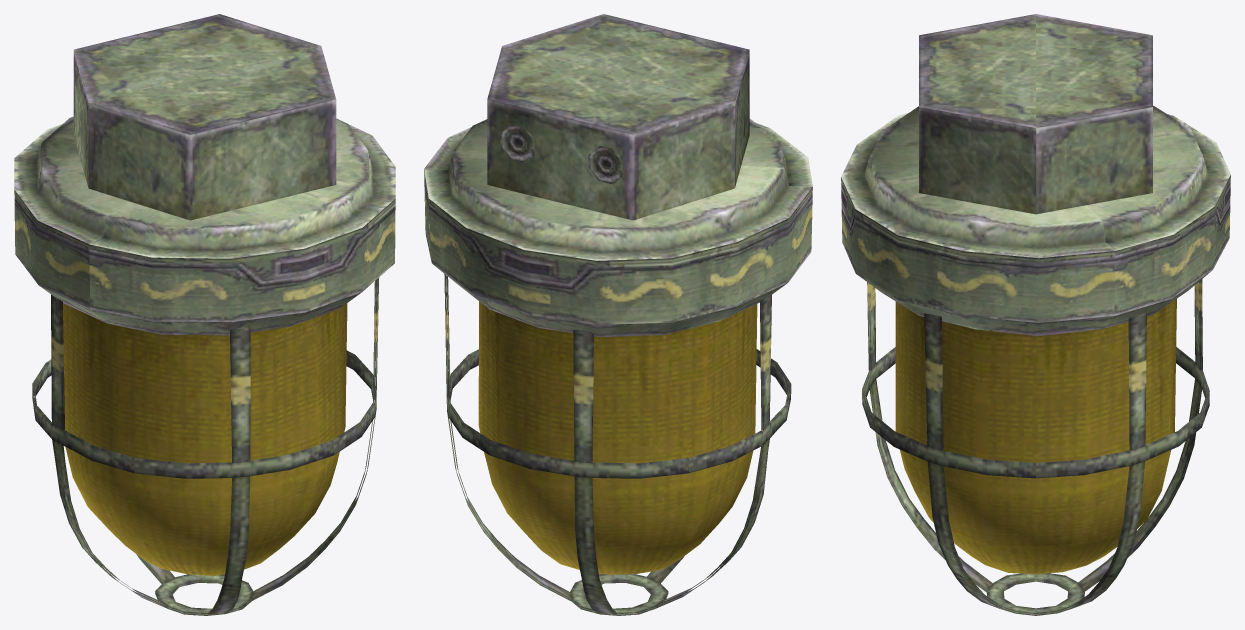
Rendered from warning_light_ceiling_mod.dae.
3 renders of one model, left to right at view 1: azimuth 30°, elevation 25°; view 2: azimuth 150°, elevation 25°; view 3: azimuth 270°, elevation 25°, orthographic.
Visible parts, largest first — view 1: warning_light_ceiling_mod; view 2: warning_light_ceiling_mod; view 3: warning_light_ceiling_mod.
Part boxes in pixels (bbox=[...]): warning_light_ceiling_mod: bbox=[14, 14, 395, 615]; warning_light_ceiling_mod: bbox=[424, 14, 812, 615]; warning_light_ceiling_mod: bbox=[841, 14, 1230, 615].
Size of the model in its own units: 0.2019 by 0.2977 by 0.2004.
